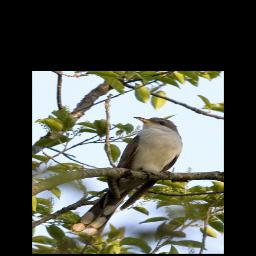Cuckoo: (71, 116, 183, 236)
